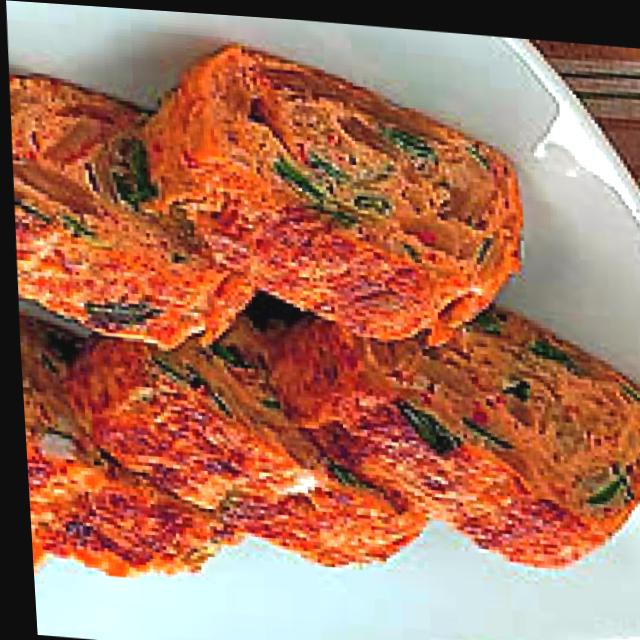鸡蛋料理: (1, 19, 640, 640)
